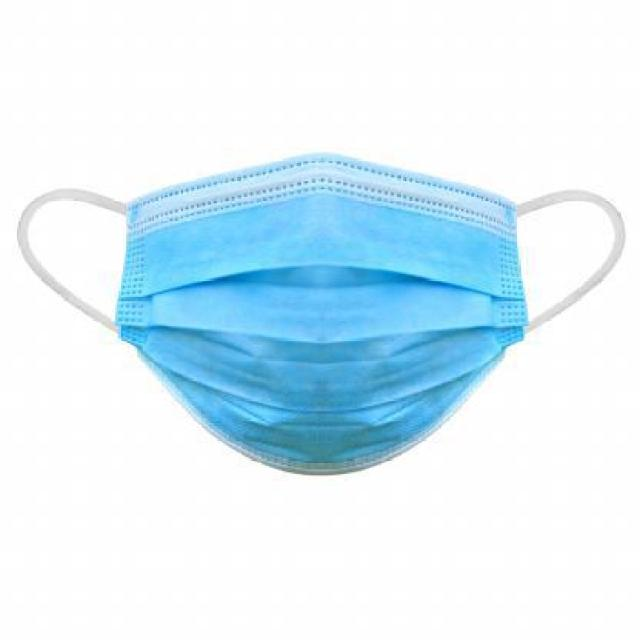B3: (7, 140, 628, 512)
